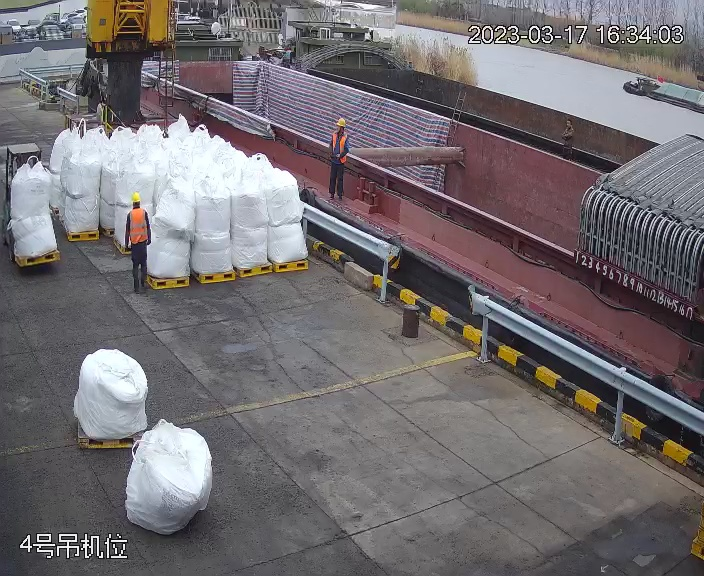head: (125, 191, 150, 221)
helmet: (129, 191, 142, 203), (336, 117, 347, 128)
people: (120, 188, 157, 292), (329, 116, 349, 201), (332, 116, 349, 143)
